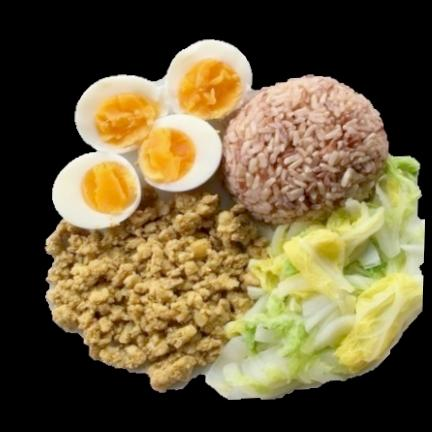chicken: (46, 189, 266, 392)
egg: (53, 40, 252, 229)
rice: (223, 76, 388, 225)
salad: (206, 156, 424, 398)
